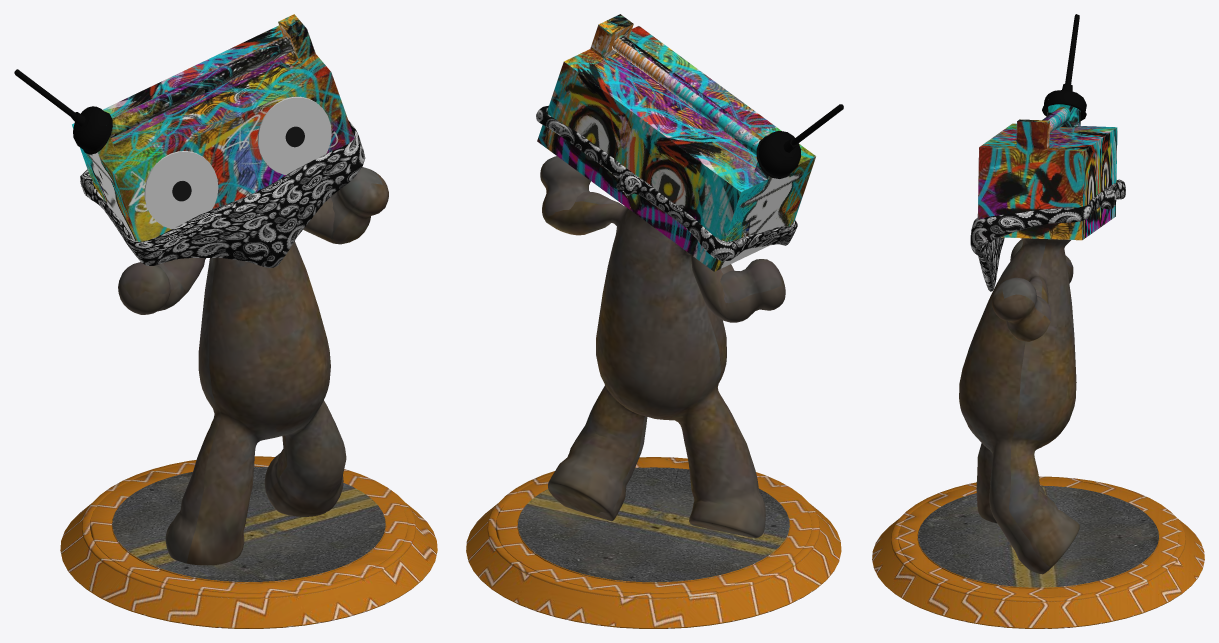
3 renders of one model, left to right at view 1: azimuth 30°, elevation 25°; view 2: azimuth 150°, elevation 25°; view 3: azimuth 270°, elevation 25°, orthographic. The views are drawn at different scales.
Bounding box in the file's own units: 1.66 × 2.2 × 1.45.
8 materials, 5 textured.
